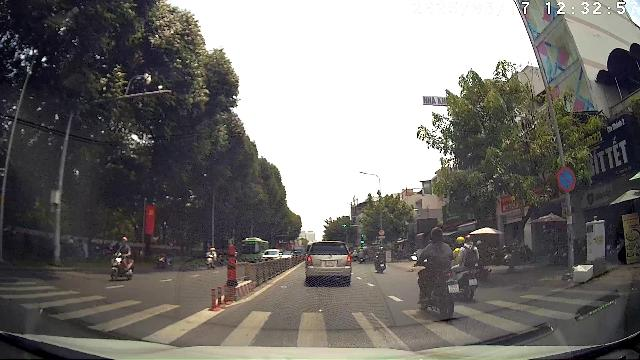131a-cam-do-xe: (557, 167, 576, 191)
